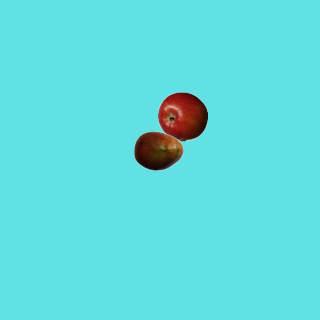Apple Braeburn: (157, 91, 207, 141)
Mango Red: (133, 125, 183, 175)
